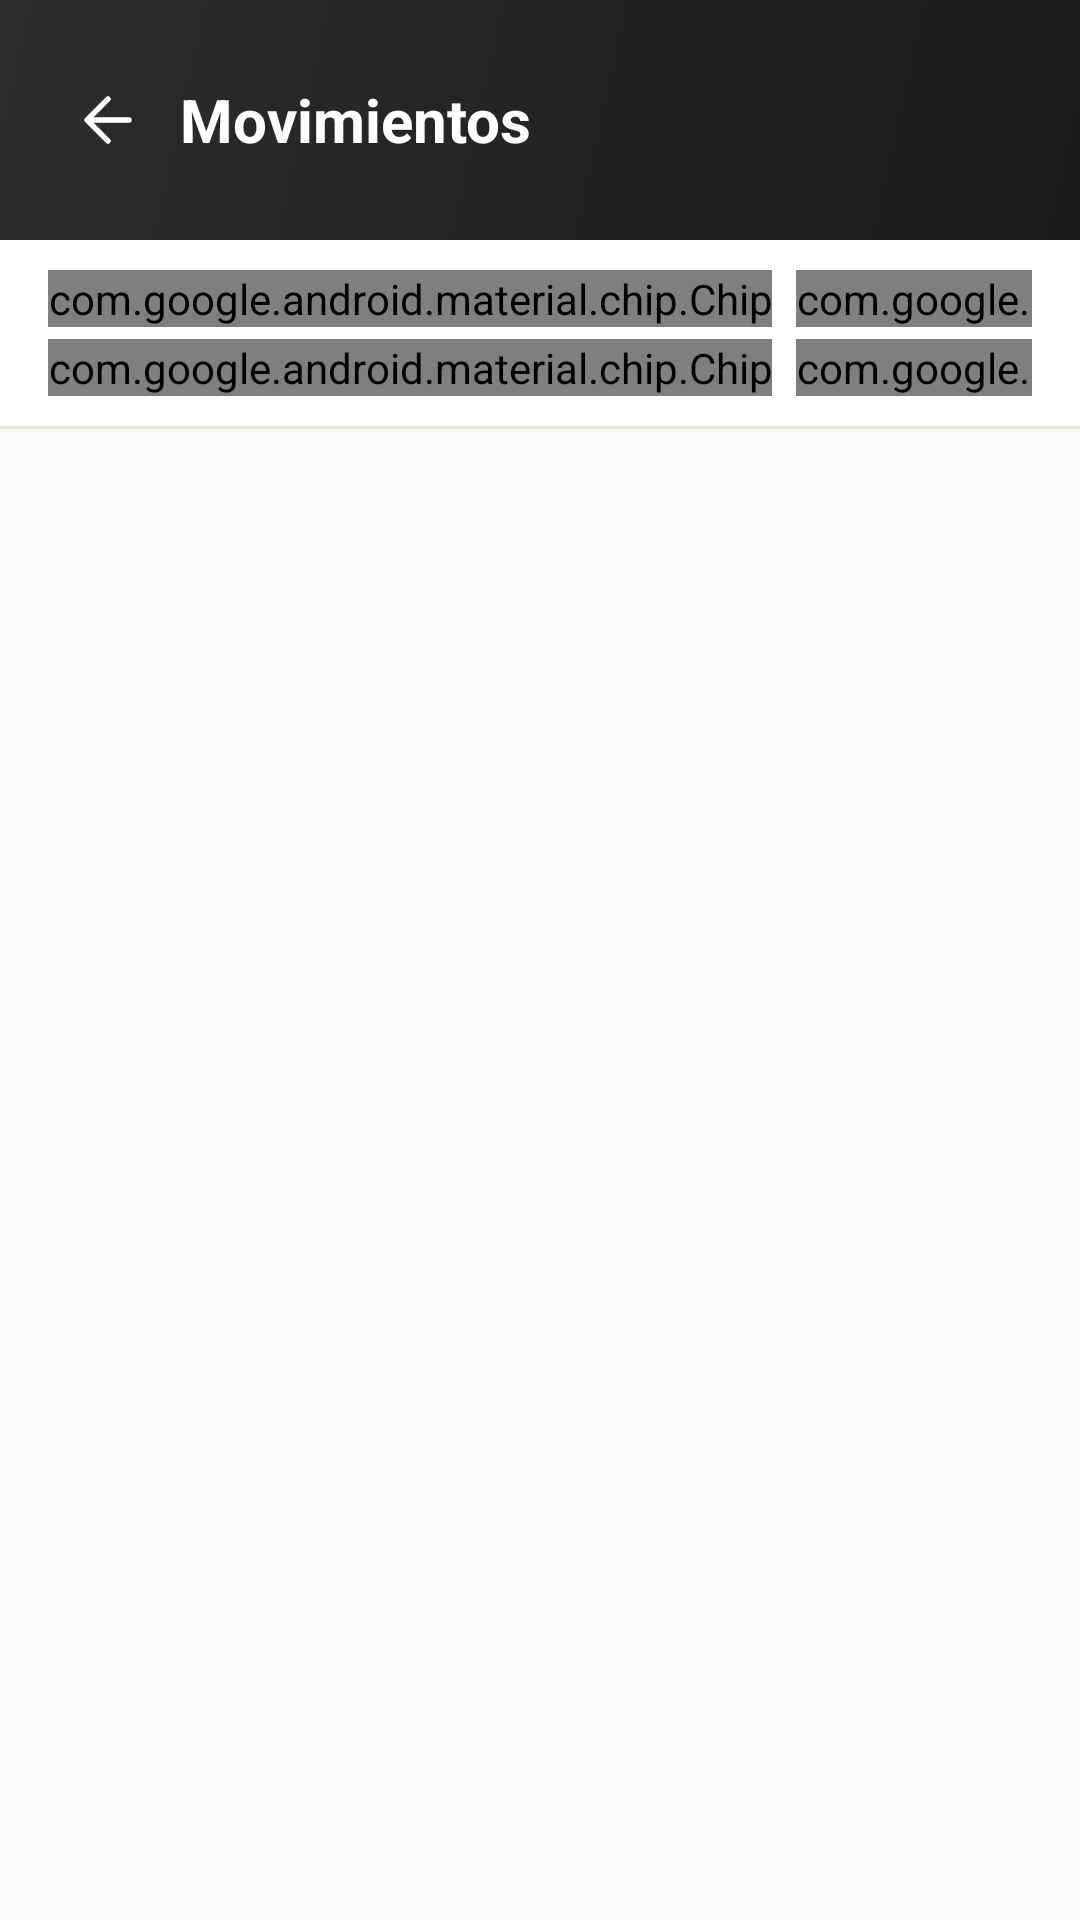

Icons on this 1080 x 1920 Android screen, each with its box as [x1,y1,x2,y2]:
back: [84,96,132,144]
